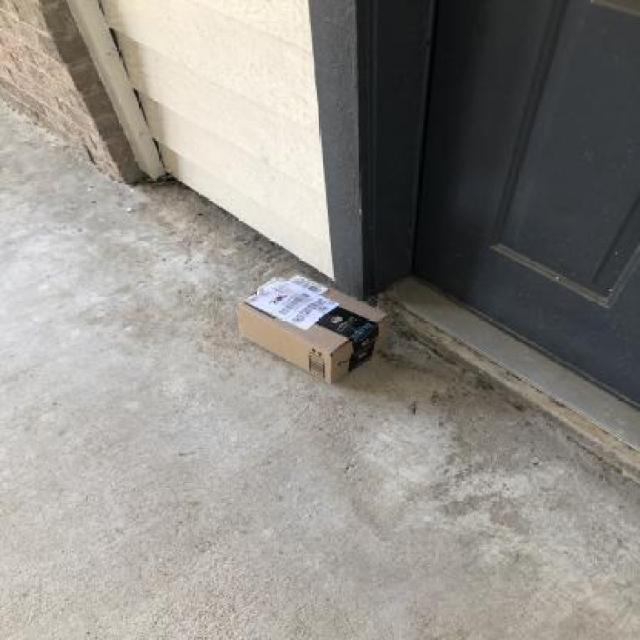cardboxes: (230, 266, 402, 394)
